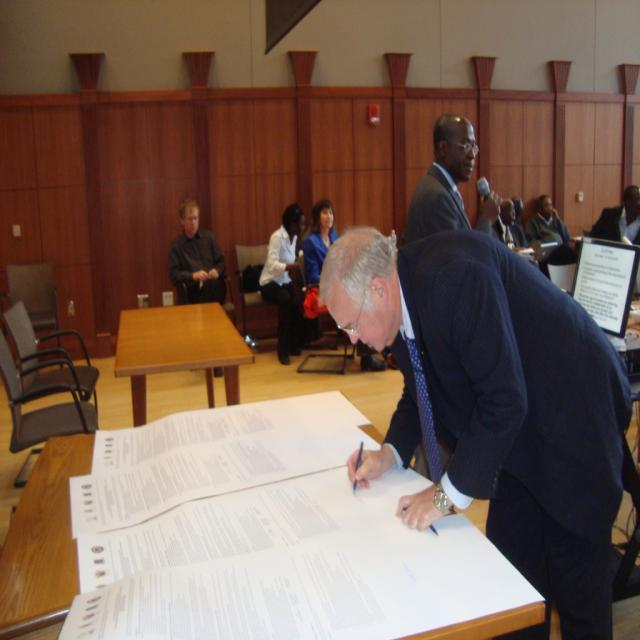chair: (0, 299, 99, 459), (230, 244, 280, 348)
desk: (24, 373, 534, 624)
laptop: (571, 237, 639, 341)
person: (319, 224, 637, 638), (401, 114, 503, 248), (259, 203, 316, 367), (169, 198, 229, 306), (524, 194, 570, 248), (493, 198, 530, 250), (619, 185, 640, 246)
tv: (571, 237, 639, 341)
